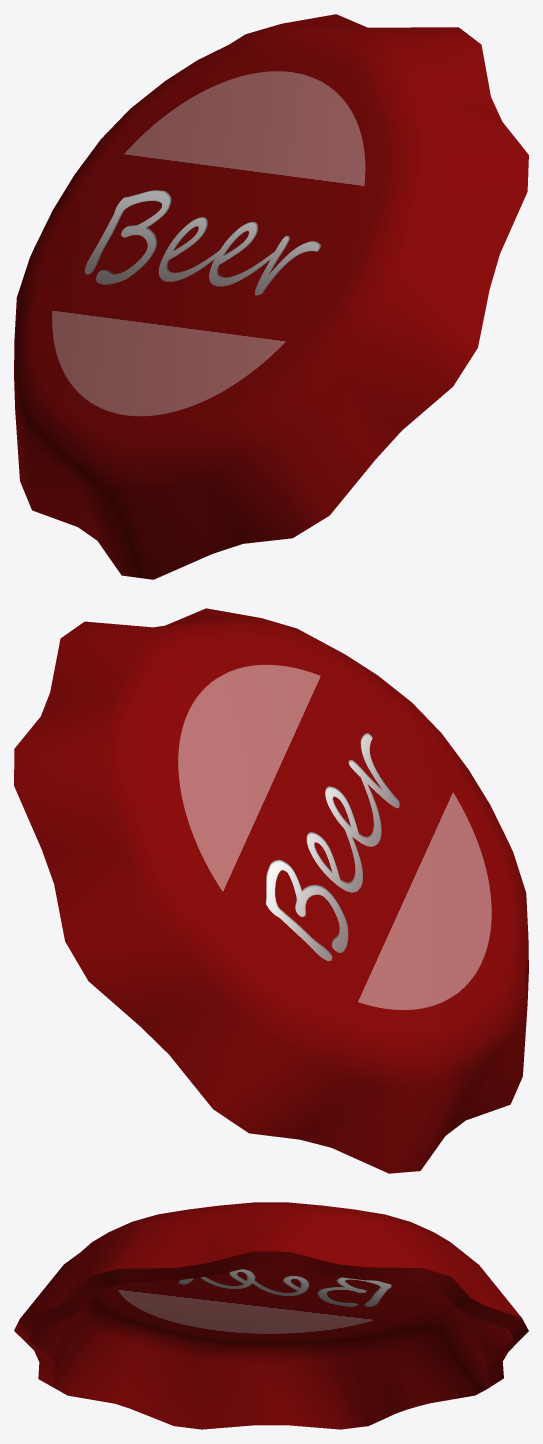
Rendered from Cap.FBX.
3 renders of one model, top to bottom at view 1: azimuth 30°, elevation 25°; view 2: azimuth 150°, elevation 25°; view 3: azimuth 270°, elevation 25°, orthographic. The views are drawn at different scales.
Visible parts, largest first — view 1: Cylinder001; view 2: Cylinder001; view 3: Cylinder001.
Boxes of the visible parts, x1,y1,x2,y2 form: Cylinder001: (14,14,528,579); Cylinder001: (14,608,528,1173); Cylinder001: (14,1202,528,1429).
Size of the model in its own units: 41.92 by 41.44 by 57.65.
